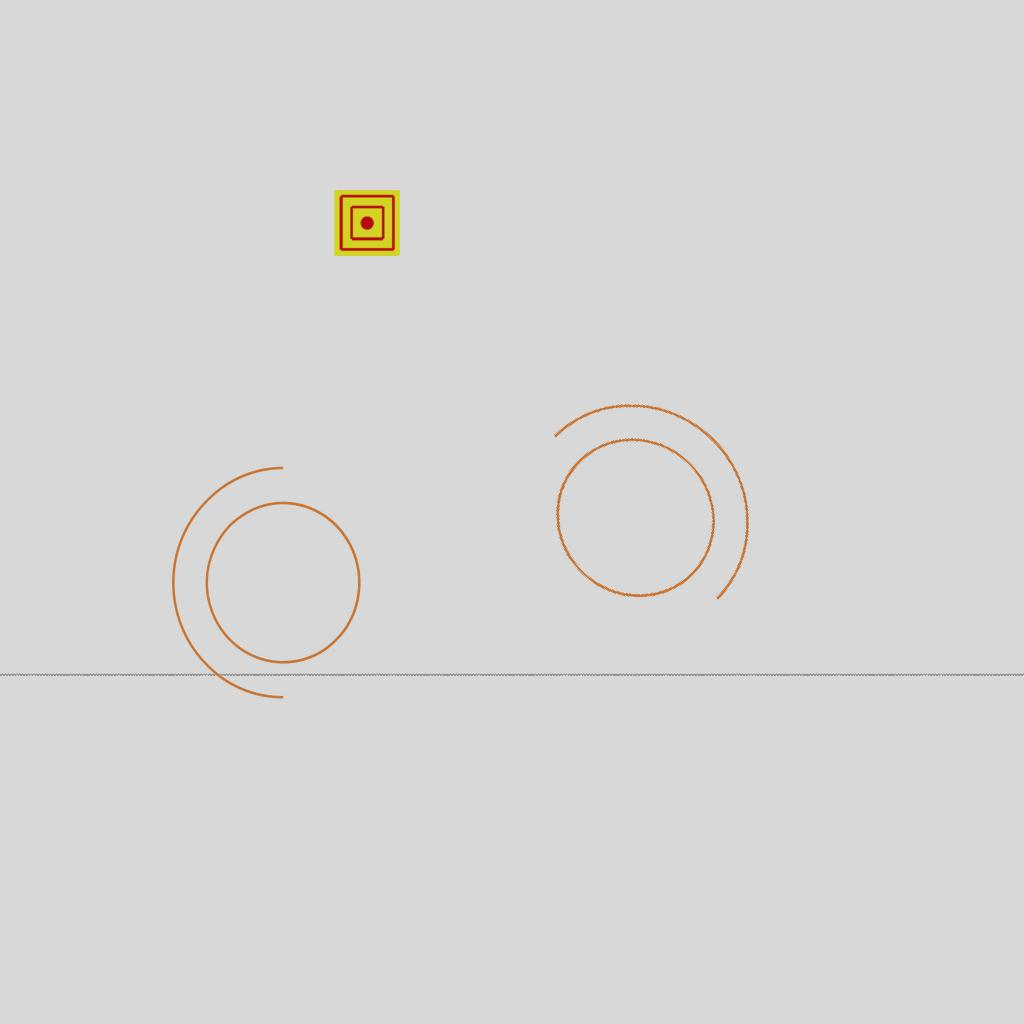NAM-Nichtautomatischer_Melder: (334, 190, 400, 256)
Scheinwerfer_fuer_Alarmbeleuchtung: (465, 333, 811, 680), (161, 457, 386, 721)
